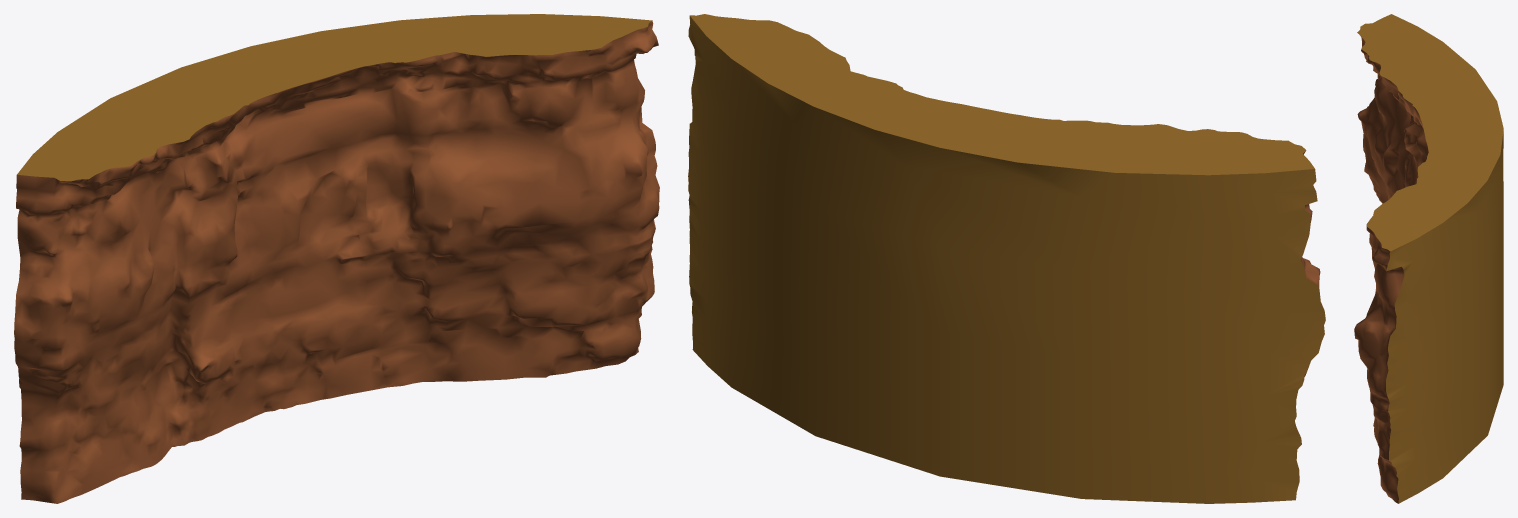
File: MSH_Rocks_Cliff_27.FBX
3 renders of one model, left to right at view 1: azimuth 30°, elevation 25°; view 2: azimuth 150°, elevation 25°; view 3: azimuth 270°, elevation 25°, orthographic. The views are drawn at different scales.
Visible parts, largest first — view 1: MESH_LOD0, CAP_LOD0; view 2: CAP_LOD0; view 3: CAP_LOD0, MESH_LOD0.
Part boxes in pixels (x1=…): MESH_LOD0: x1=14, y1=20, x2=659, y2=503; CAP_LOD0: x1=17, y1=14, x2=651, y2=181; CAP_LOD0: x1=688, y1=14, x2=1325, y2=503; CAP_LOD0: x1=1357, y1=14, x2=1503, y2=503; MESH_LOD0: x1=1354, y1=35, x2=1428, y2=503.
Size of what is drawn, in the model's own units: 1341 by 661 by 351.
